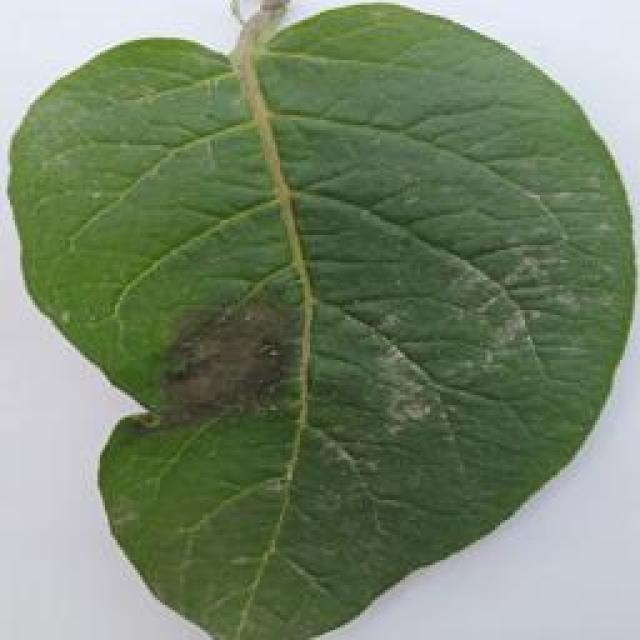Potato_Late_Blight: (9, 4, 625, 635)
